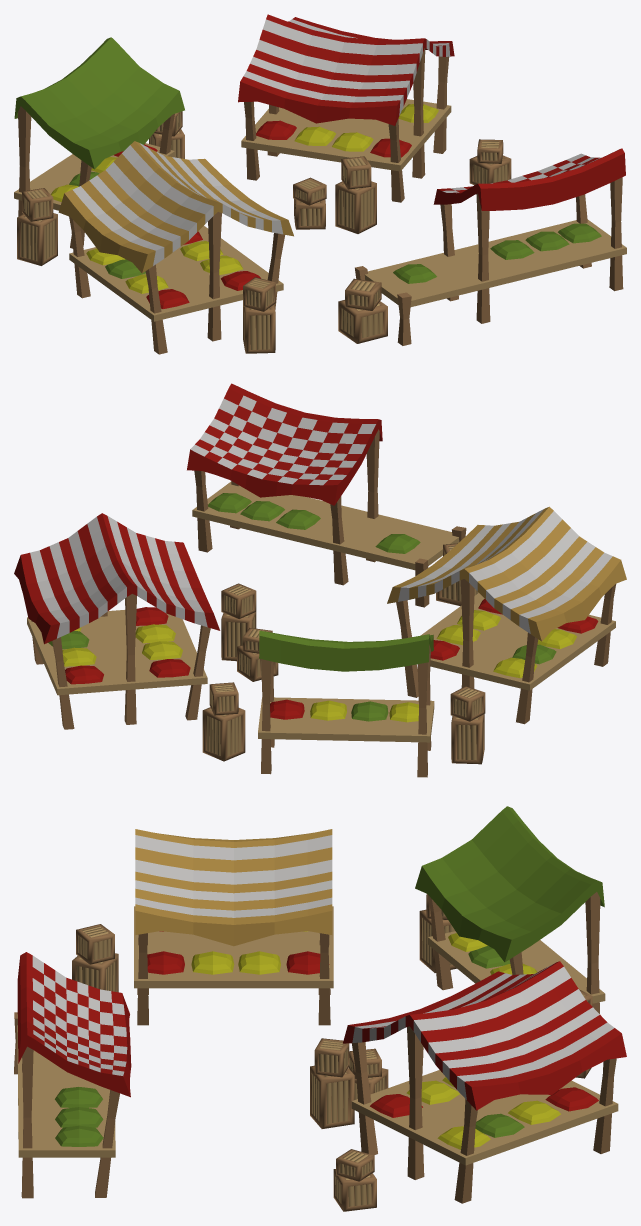
File: Market_FirstAge_Level2.glb
The picture shows the model from 3 angles, top to bottom: view 1: azimuth 30°, elevation 25°; view 2: azimuth 150°, elevation 25°; view 3: azimuth 270°, elevation 25°; orthographic projection. The views are drawn at different scales.
Parts seen in each view (by area): view 1: Market_FirstAge_Level2; view 2: Market_FirstAge_Level2; view 3: Market_FirstAge_Level2.
Boxes of the visible parts, x1,y1,x2,y2 form: Market_FirstAge_Level2: (14, 14, 626, 354); Market_FirstAge_Level2: (14, 383, 626, 777); Market_FirstAge_Level2: (14, 806, 626, 1211).
Bounding box in the file's own units: 1.9 × 0.5527 × 1.87.
1 material, 1 textured.
